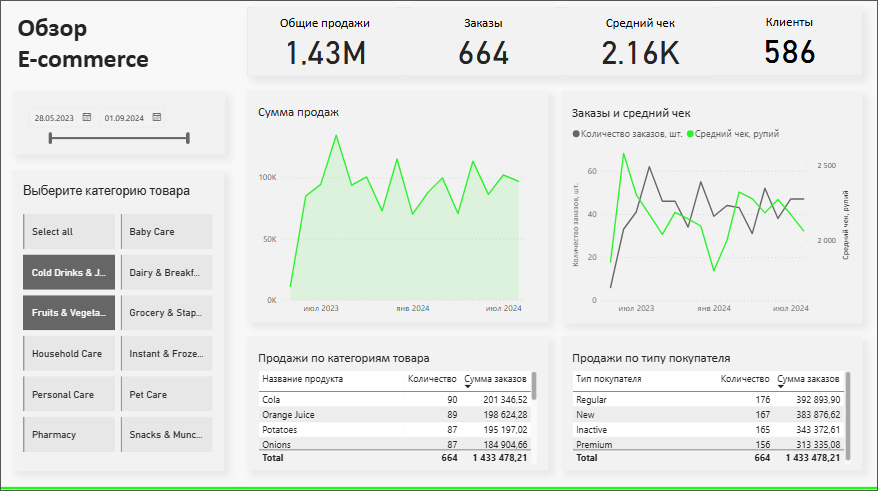

Layout of this report page (visuals, bound fields, positions):
{"tool":"powerbi","page":{"name":"dashboard","canvas":[1280,720],"ordinal":0},"visuals":[{"type":"shape","box":[364,14,894,100],"z":0},{"type":"card","title":"Общие продажи","fields":{"Values":["Sum(orders.order_total)"]},"box":[372.4,14.5,209,100],"z":1000},{"type":"card","title":"Заказы","fields":{"Values":["Count(order_items.order_id)"]},"box":[602,14,210,100],"z":2000},{"type":"card","title":"Средний чек","fields":{"Values":["orders.avg_bill"]},"box":[830,14,210,100],"z":3000},{"type":"card","title":"Клиенты","fields":{"Values":["Count(orders.customer_id)"]},"box":[1047.8,13.7,210,100],"z":4000},{"type":"areaChart","title":"Сумма продаж","fields":{"Category":["orders.order_date.Изменение.Иерархия дат.Год","orders.order_date.Изменение.Иерархия дат.Месяц"],"Y":["Sum(orders.order_total)"]},"box":[363,135.3,438.3,338.3],"z":5000},{"type":"slicer","fields":{"Values":["orders.order_date"]},"box":[22,136,310,92],"z":6000},{"type":"advancedSlicerVisual","title":"Выберите категорию товара","fields":{"Values":["products.category"]},"box":[22,252,308,438],"z":7000},{"type":"tableEx","title":"Продажи по категориям товара","fields":{"Values":["products.product_name","orders.order_id","Sum(orders.order_total)"]},"box":[363,493.7,438.3,195],"z":8000},{"type":"tableEx","title":"Продажи по типу покупателя","fields":{"Values":["customers.customer_segment","orders.order_id","Sum(orders.order_total)"]},"box":[819.7,493.7,438.3,195],"z":9000},{"type":"textbox","box":[21.8,1.5,308.4,135.3],"z":10000},{"type":"lineChart","title":"Заказы и средний чек","fields":{"Category":["orders.order_date.Изменение.Иерархия дат.Год","orders.order_date.Изменение.Иерархия дат.Месяц"],"Y":["Count(orders.order_id)"],"Y2":["orders.avg_bill"]},"box":[820,136,438,338],"z":11000},{"type":"shape","box":[0,708,1280,12],"z":12000}]}

Visuals, with their boxes in screenshot pixels (x1, y1, x2, y2), scaled from the page's 1280x720 canvas onto the 878x491 screenshot:
shape: crop(250, 10, 863, 78)
"Общие продажи" card: crop(255, 10, 399, 78)
"Заказы" card: crop(413, 10, 557, 78)
"Средний чек" card: crop(569, 10, 713, 78)
"Клиенты" card: crop(719, 9, 863, 78)
"Сумма продаж" areaChart: crop(249, 92, 550, 323)
slicer - orders.order_date: crop(15, 93, 228, 155)
"Выберите категорию товара" advancedSlicerVisual: crop(15, 172, 226, 471)
"Продажи по категориям товара" tableEx: crop(249, 337, 550, 470)
"Продажи по типу покупателя" tableEx: crop(562, 337, 863, 470)
textbox: crop(15, 1, 226, 93)
"Заказы и средний чек" lineChart: crop(562, 93, 863, 323)
shape: crop(0, 483, 877, 490)
